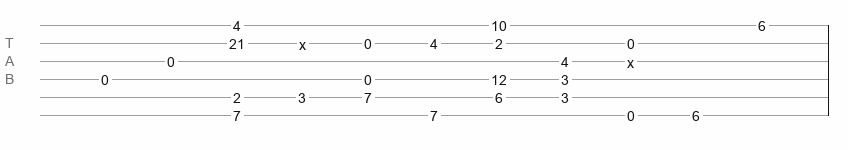0: (101, 72, 109, 82), (167, 54, 175, 64), (364, 72, 372, 82), (364, 36, 372, 46), (627, 36, 635, 46), (627, 108, 635, 118)
10: (491, 18, 507, 28)
12: (491, 72, 507, 82)
2: (233, 90, 241, 100), (495, 36, 503, 46)
21: (229, 36, 245, 46)
3: (298, 90, 306, 100), (561, 90, 569, 100), (561, 72, 569, 82)
4: (233, 18, 241, 28), (430, 36, 438, 46), (561, 54, 569, 64)
6: (495, 90, 503, 100), (692, 108, 700, 118), (758, 18, 766, 28)
7: (233, 108, 241, 118), (364, 90, 372, 100), (430, 108, 438, 118)
x: (299, 37, 306, 45), (627, 55, 634, 63)
